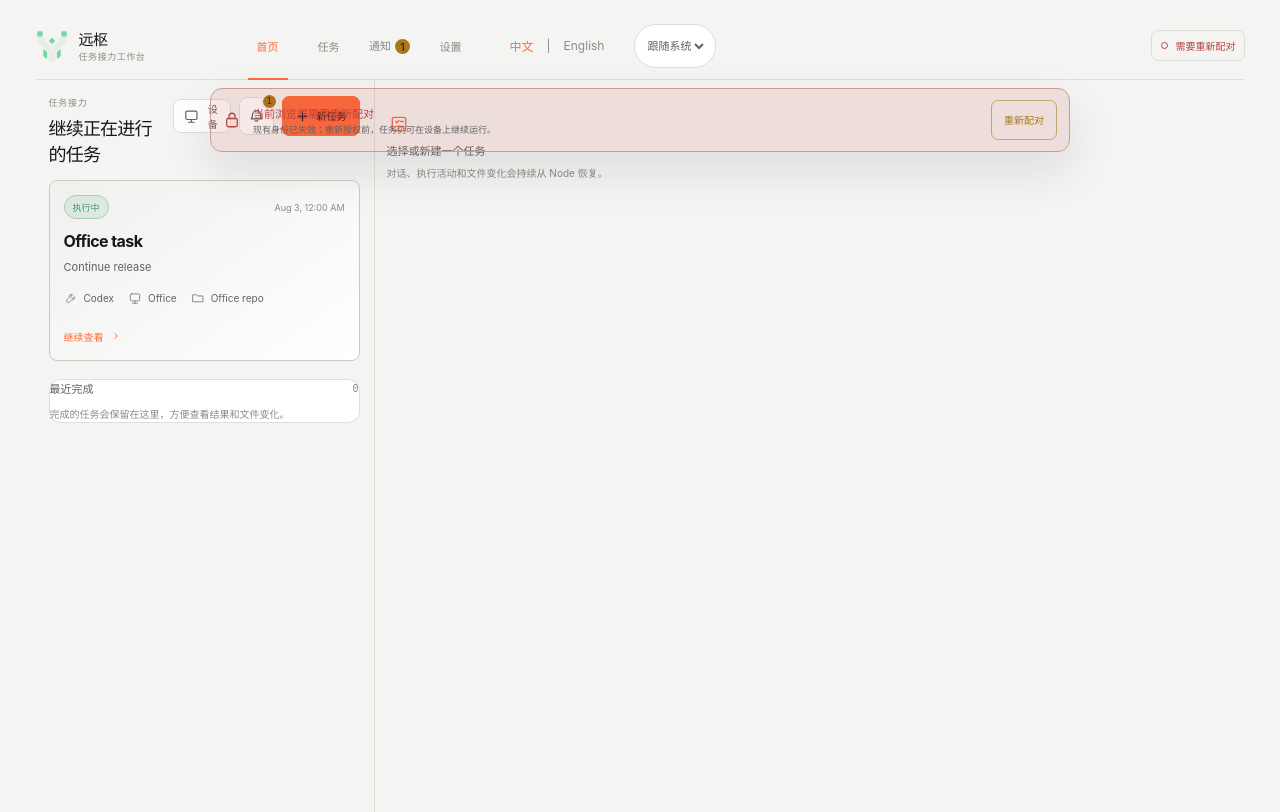
it: personal workbench › layers settings and keeps re-pairing visible after authorization expires
The image size is (1280, 812).
Expected: the message shows "当前浏览器需要重新配对", [253, 106, 374, 120]
What coordinates should you click on to do the following:
click the button "设置"
I would click on:
 (450, 46)
Its box is [422, 12, 480, 79].
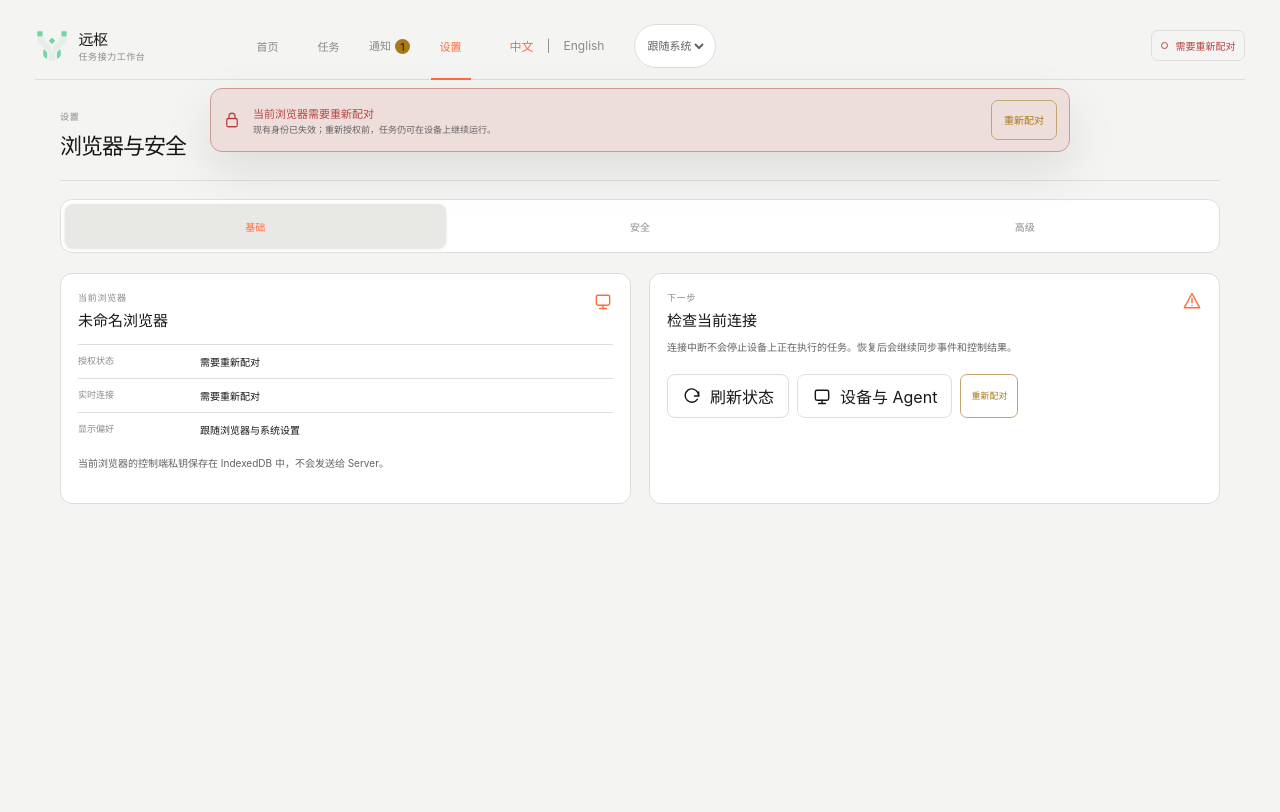
What coordinates should you click on to do the following:
click the tab "安全"
I would click on:
 (640, 226)
Its box is [450, 204, 830, 248].
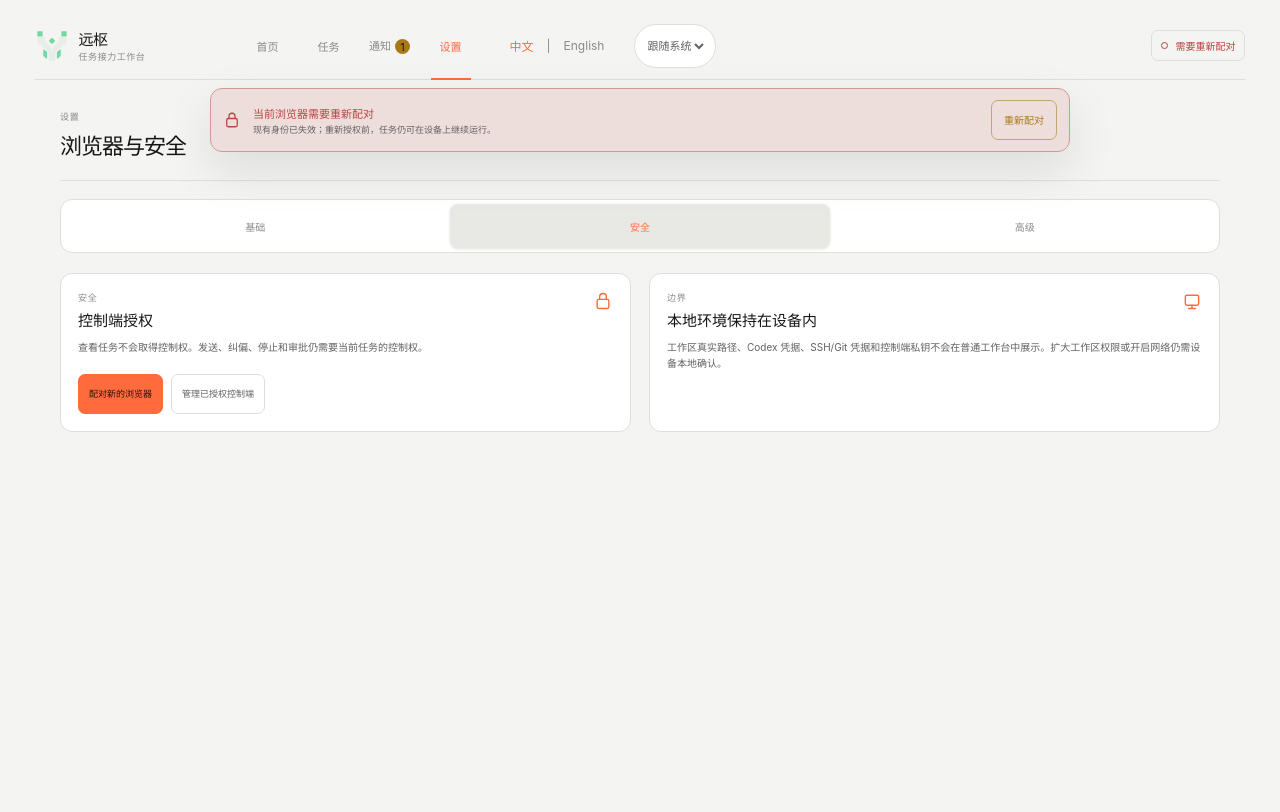
Now the heading "控制端授权" is shown, box [78, 309, 153, 330]
What coordinates should you click on to do the following:
click the tab "高级"
I would click on:
 (1025, 226)
Its box is [834, 204, 1215, 248].
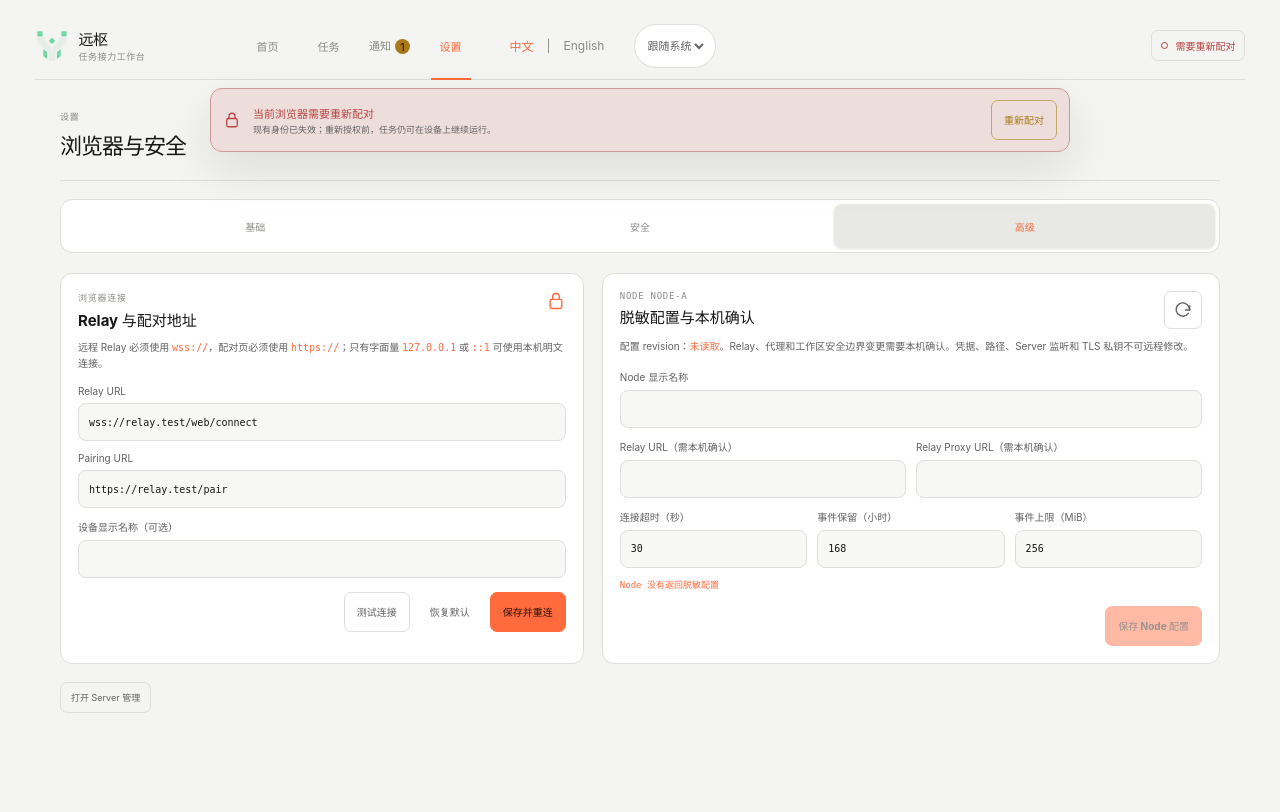
Now the heading "Relay 与配对地址" is shown, box [78, 309, 197, 330]
